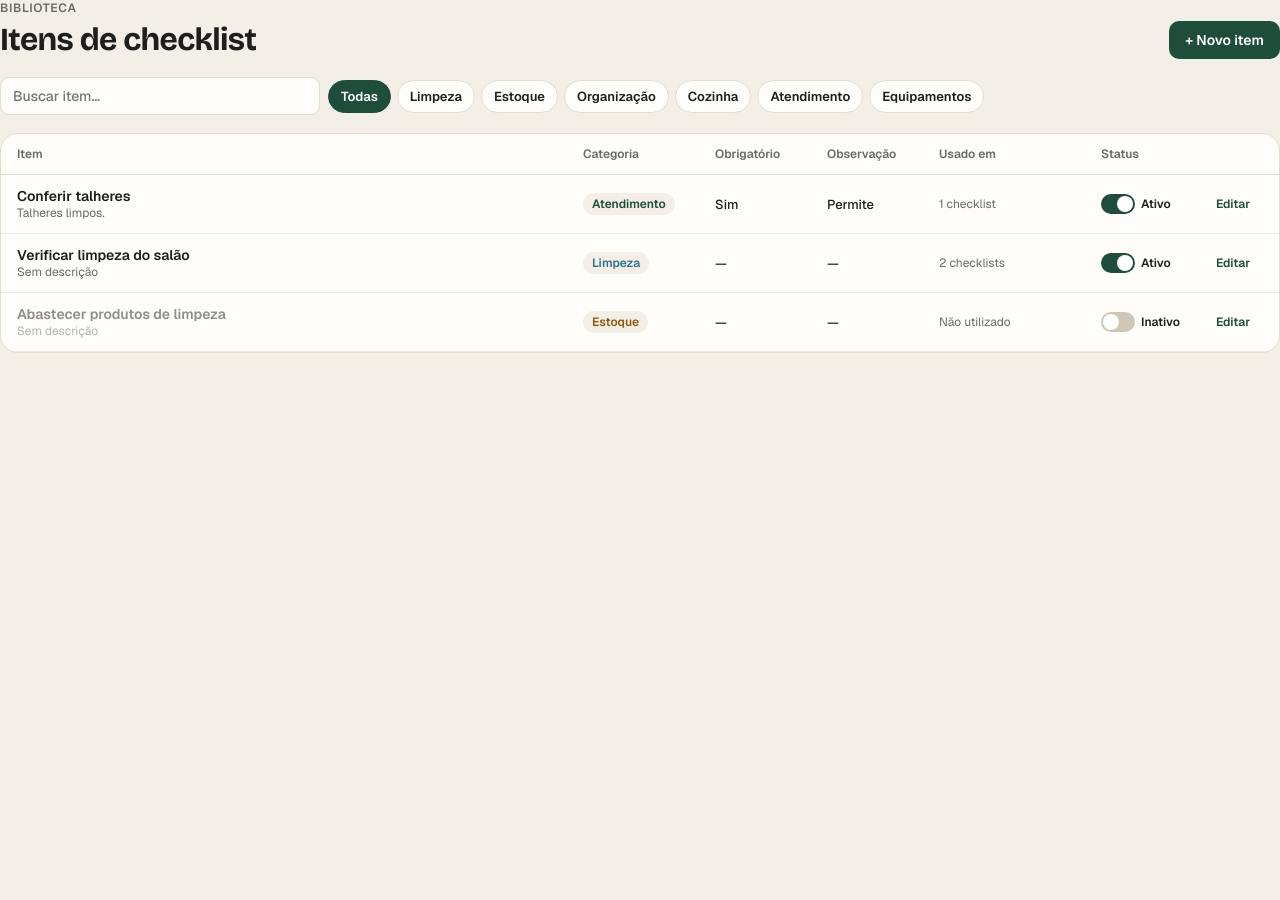
Test case: US12 — itens (web) › cria item pelo modal (sucesso)
Click the button "+ Novo item". click: coordinates (1225, 40)
box: 1169,21 -> 1279,59
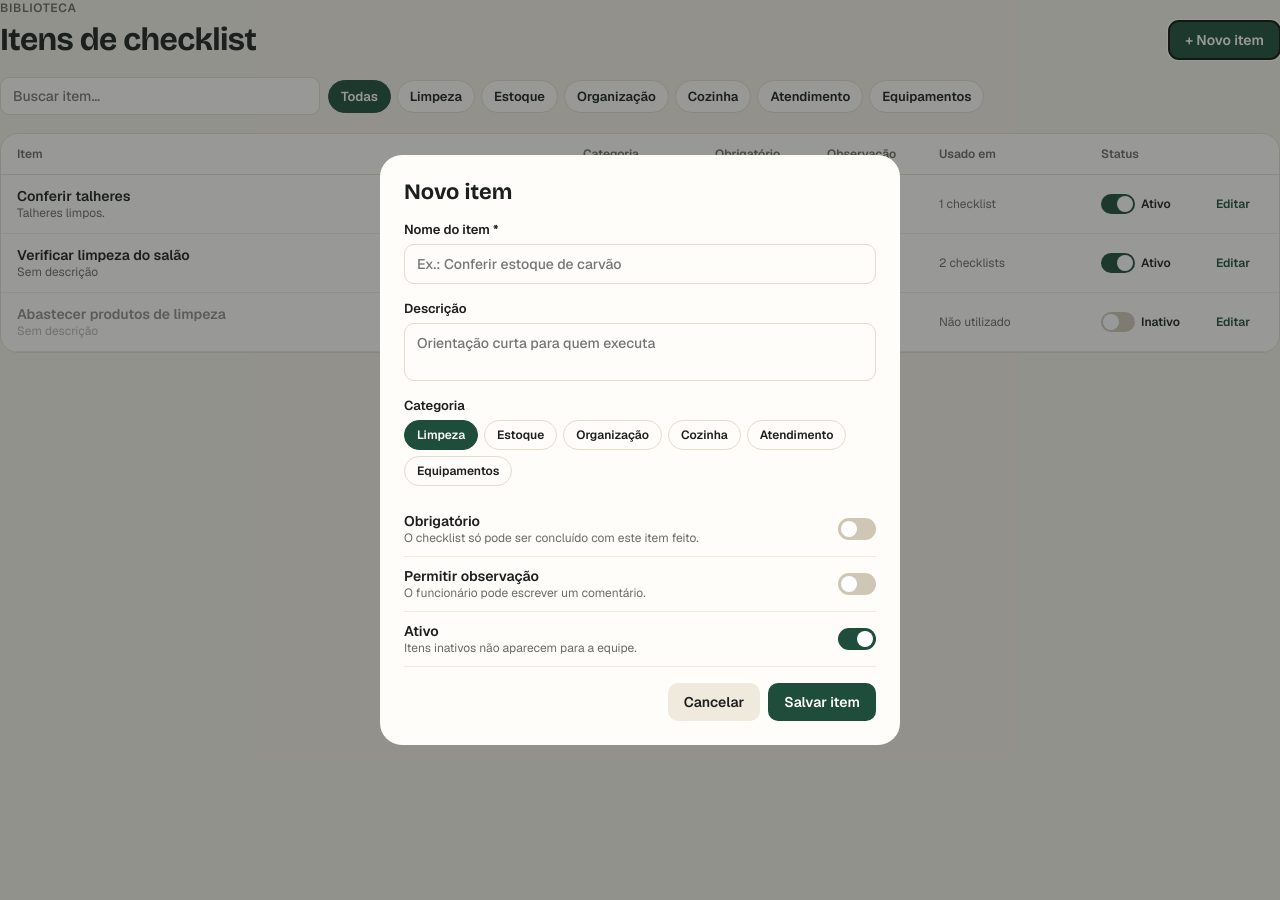
Type "Conferir carvão" into the field labelled "Nome do item *". click: coordinates (640, 264)
box: 404,244 -> 876,284
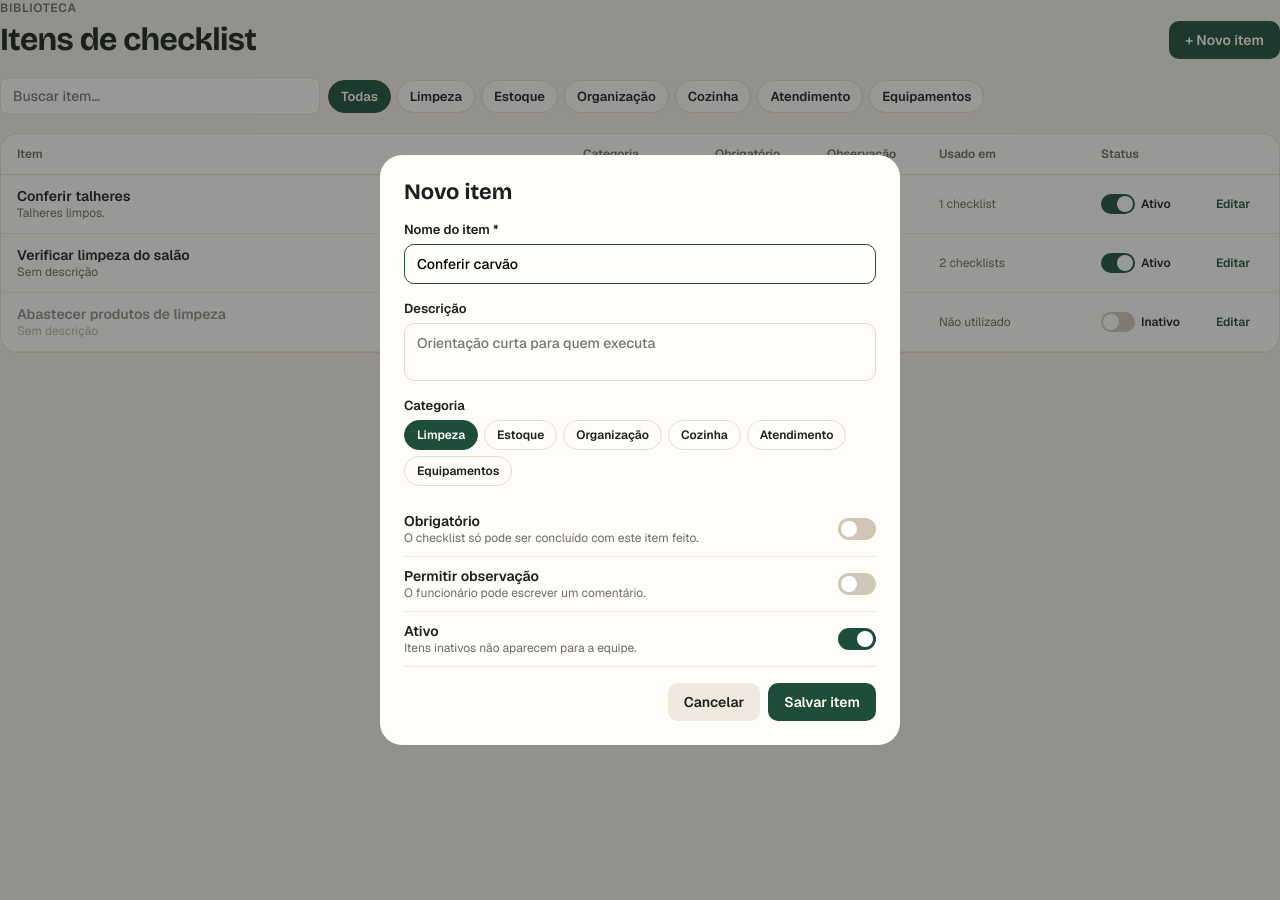
Click the button "Estoque". click: coordinates (521, 435)
box: 484,420 -> 557,450
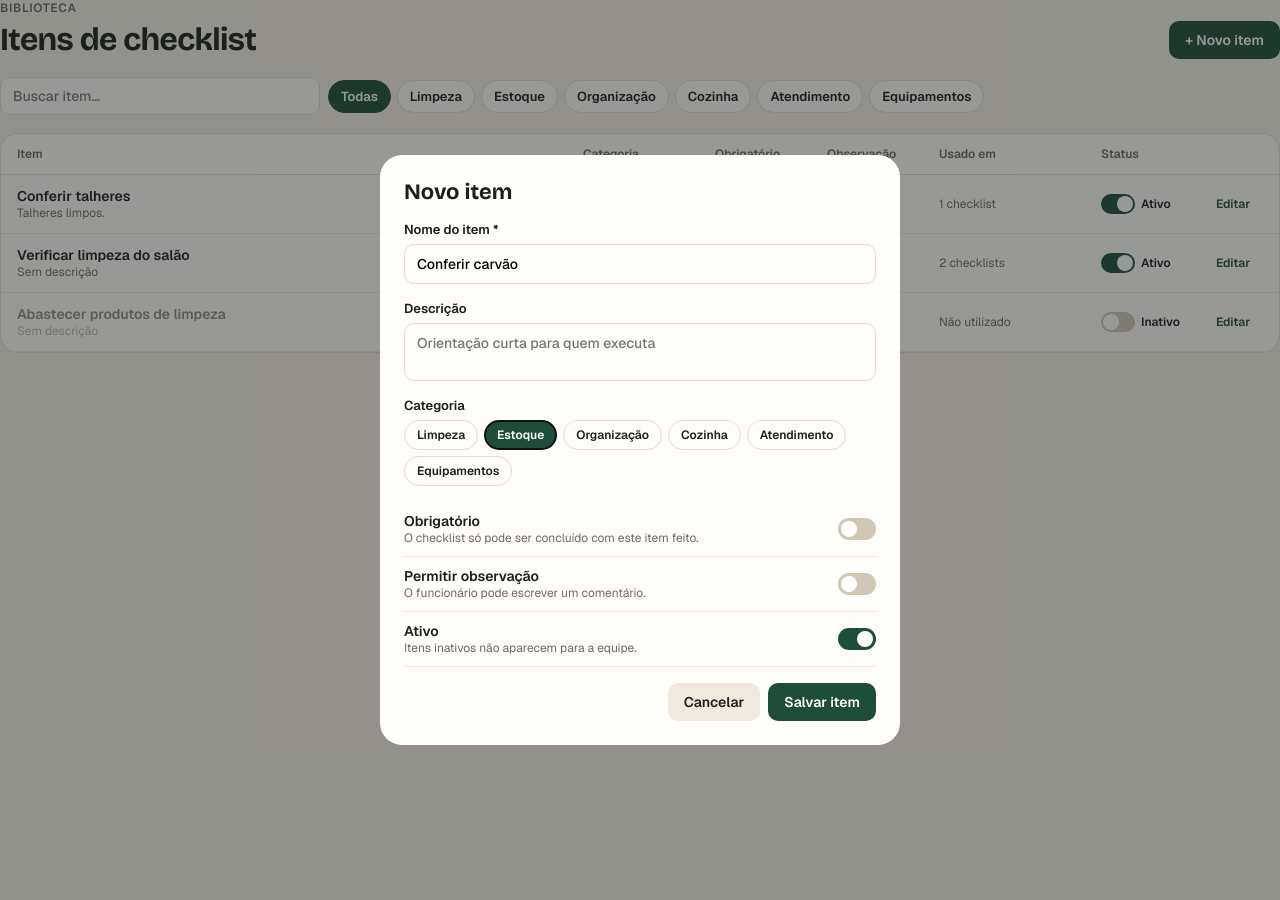
Click the switch named "Obrigatório". click: coordinates (857, 529)
box: 838,518 -> 876,540
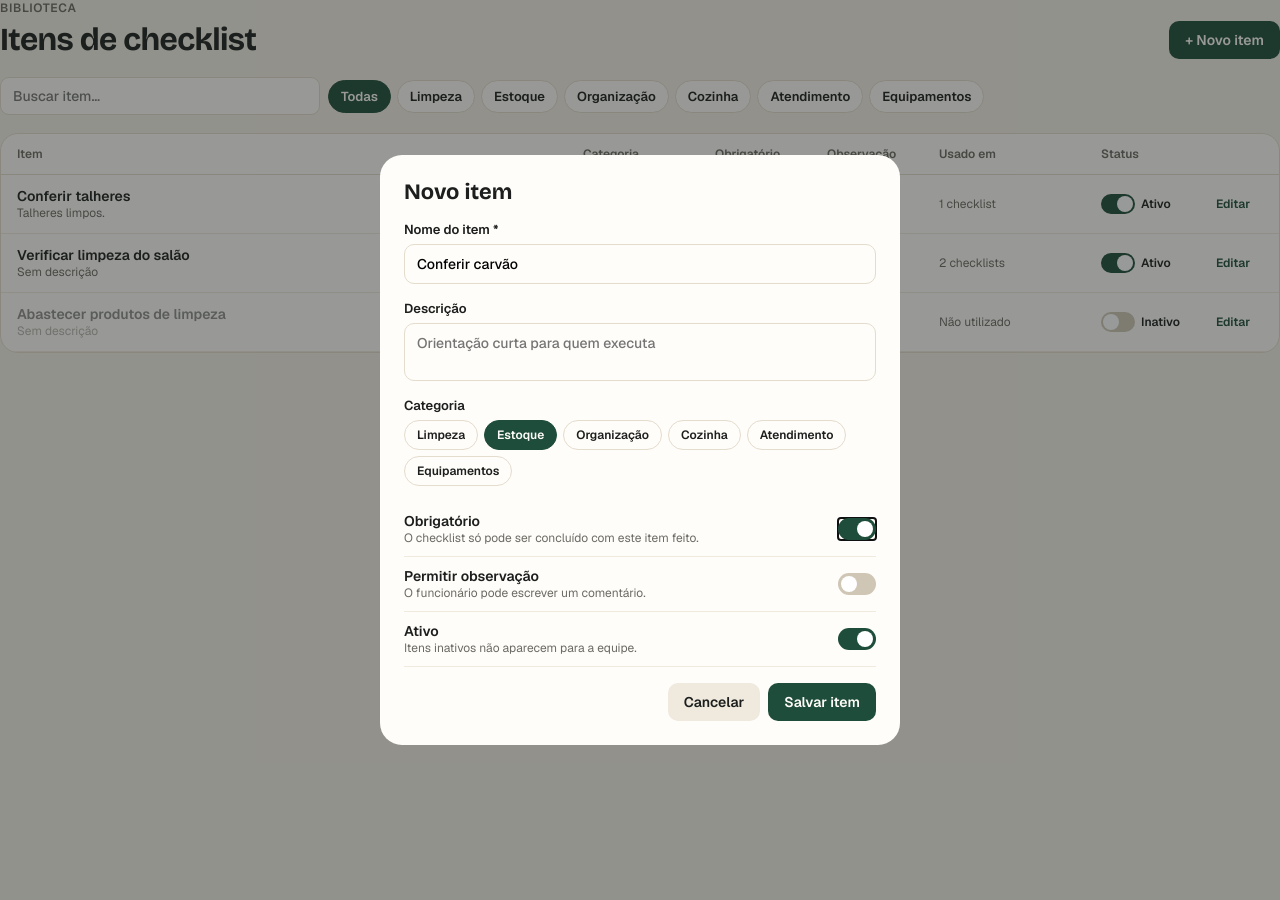
Click the button "Salvar item". click: coordinates (822, 702)
box: 768,683 -> 876,721
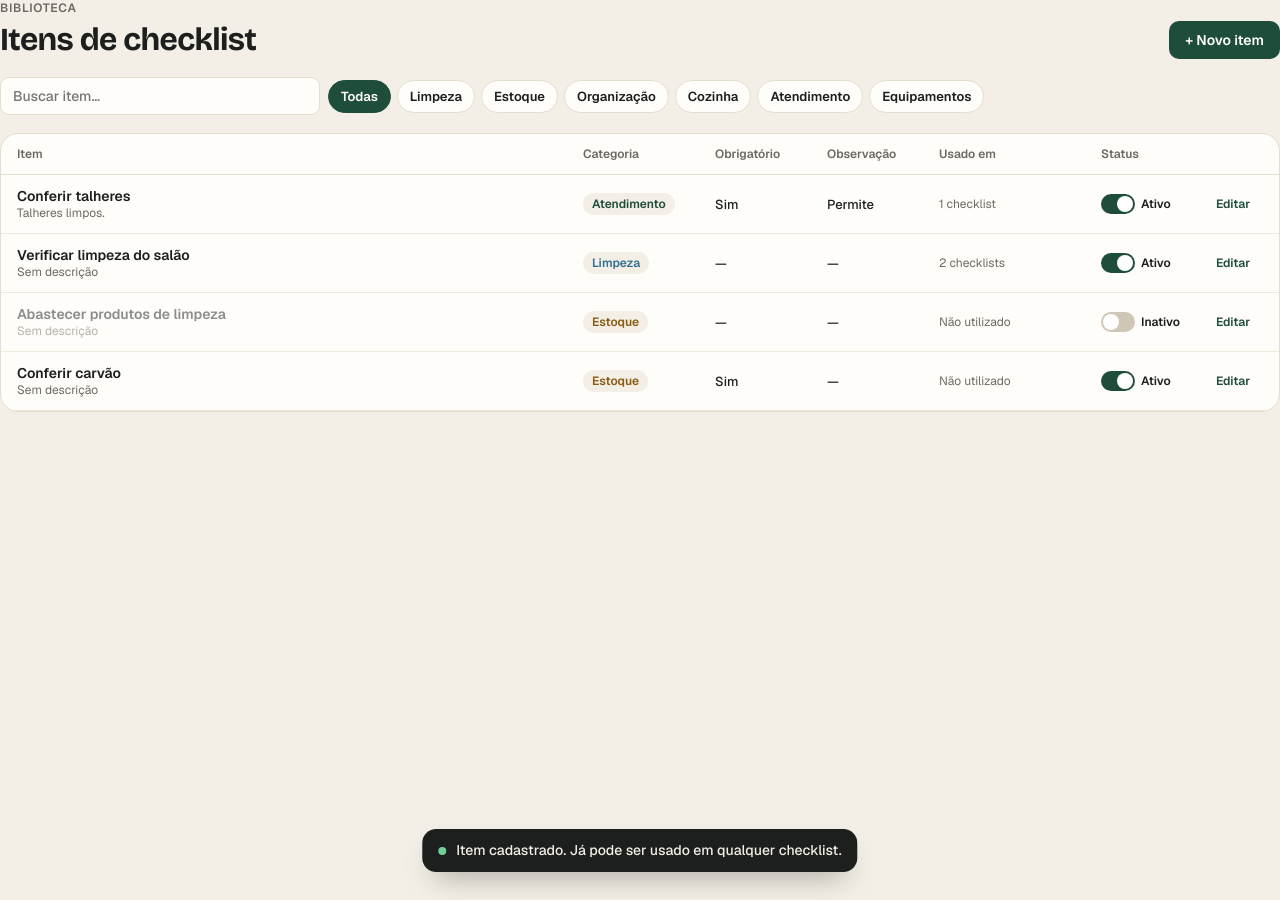
Check: the text "Conferir carvão" is shown, box 17,364 -> 121,382
Check: the dialog is gone
Check: the message reads "Item cadastrado. Já pode ser usado em qualquer checklist.", box 456,841 -> 842,859
